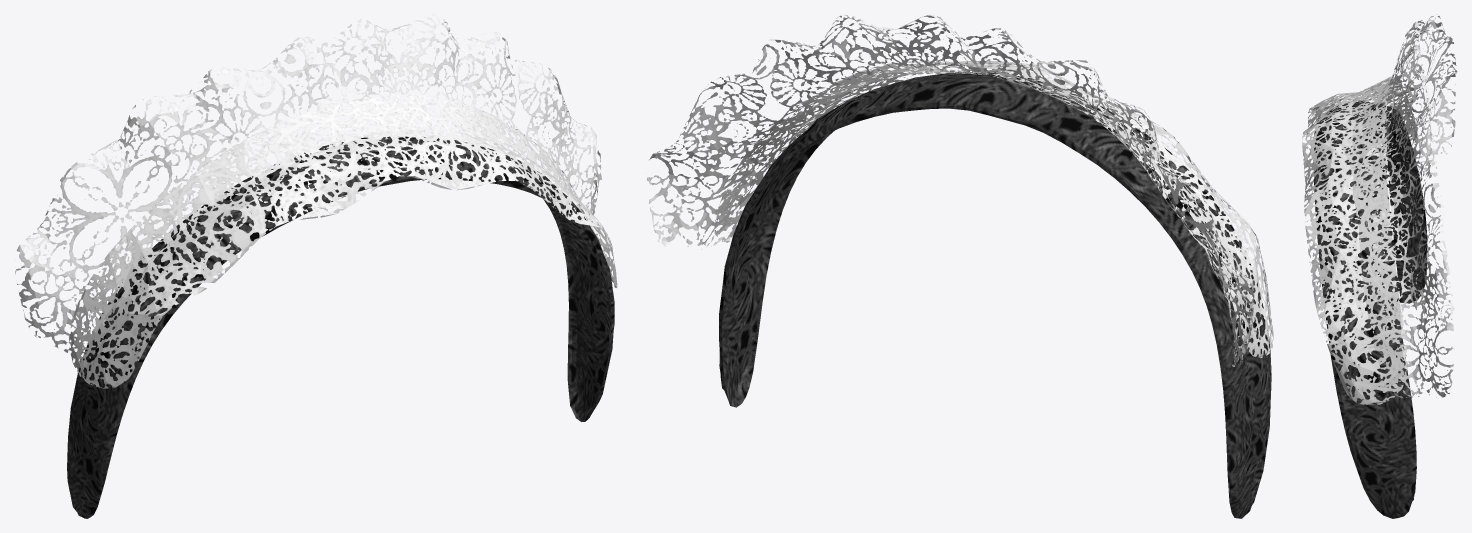
Rendered from mhw_elvs_dirty_lil_maid_bonnet.glb.
The picture shows the model from 3 angles, left to right: view 1: azimuth 30°, elevation 25°; view 2: azimuth 150°, elevation 25°; view 3: azimuth 270°, elevation 25°; orthographic projection. The views are drawn at different scales.
Visible parts, largest first — view 1: mhw_elvs_dirty_lil_maid_bonnet; view 2: mhw_elvs_dirty_lil_maid_bonnet; view 3: mhw_elvs_dirty_lil_maid_bonnet.
Part boxes in pixels (x1,y1,x2,y2): mhw_elvs_dirty_lil_maid_bonnet: [15, 14, 617, 518]; mhw_elvs_dirty_lil_maid_bonnet: [647, 14, 1273, 518]; mhw_elvs_dirty_lil_maid_bonnet: [1302, 14, 1457, 518].
Size of the model in its own units: 0.1793 by 0.1283 by 0.0495.
Materials: 1 (1 with a texture image).
